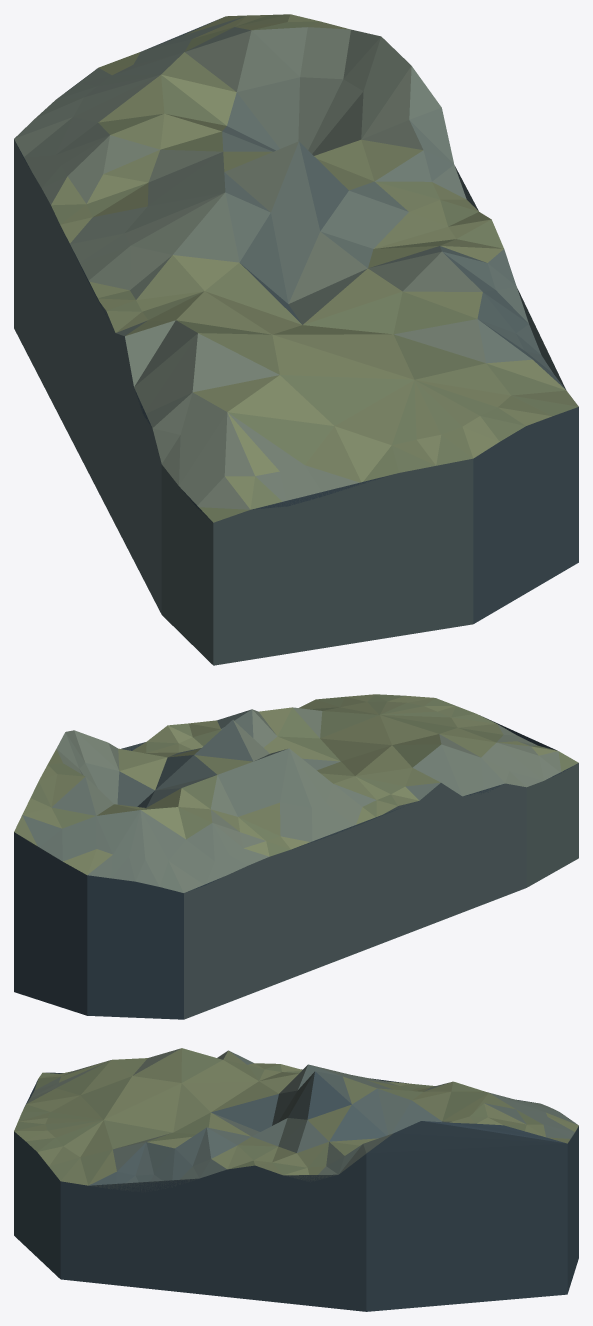
File: cliff_shadow_buttress.glb
3 renders of one model, top to bottom at view 1: azimuth 30°, elevation 25°; view 2: azimuth 150°, elevation 25°; view 3: azimuth 270°, elevation 25°, orthographic. The views are drawn at different scales.
Parts seen in each view (by area): view 1: cliff_shadow_buttress; view 2: cliff_shadow_buttress; view 3: cliff_shadow_buttress.
Part boxes in pixels (x1,y1,x2,y2): cliff_shadow_buttress: (14,14,578,665); cliff_shadow_buttress: (14,694,578,1019); cliff_shadow_buttress: (14,1048,578,1311).
Bounding box in the file's own units: 109 × 63.53 × 175.
